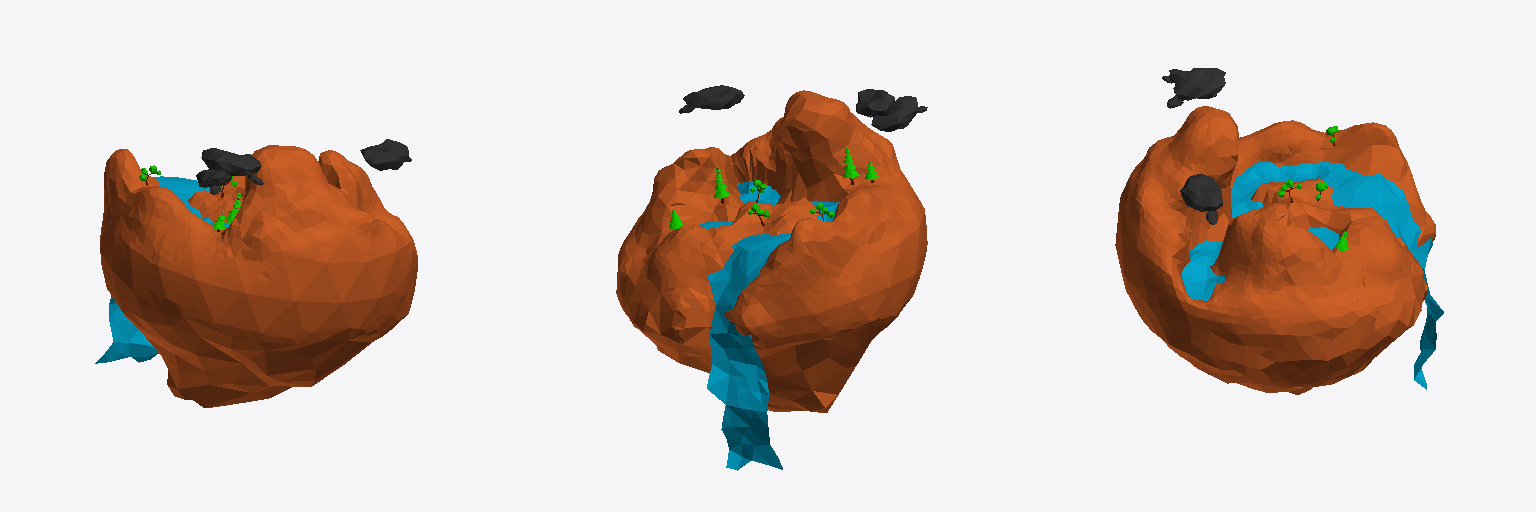
The model's file is island_basic_rain.obj.
The picture shows the model from 3 angles: view 1: azimuth 30°, elevation 25°; view 2: azimuth 150°, elevation 25°; view 3: azimuth 270°, elevation 25°; orthographic projection.
Parts seen in each view (by area): view 1: Icosphere_Icosphere.001, Plane, Icosphere.004_Icosphere.005, Icosphere.005_Icosphere.006, Icosphere.002, Icosphere.001_Icosphere, Icosphere.003; view 2: Icosphere_Icosphere.001, Plane, Icosphere.004_Icosphere.005, Icosphere.005_Icosphere.006, Icosphere.001_Icosphere, Icosphere.003, Icosphere.002; view 3: Icosphere_Icosphere.001, Plane, Icosphere.004_Icosphere.005, Icosphere.005_Icosphere.006, Icosphere.002, Icosphere.001_Icosphere.
Part boxes in pixels (x1,y1,x2,y2): Icosphere_Icosphere.001: (100, 158, 417, 407); Plane: (95, 176, 228, 363); Icosphere.004_Icosphere.005: (252, 145, 323, 184); Icosphere.005_Icosphere.006: (106, 149, 355, 212); Icosphere.002: (201, 148, 263, 184); Icosphere.001_Icosphere: (360, 139, 411, 170); Icosphere.003: (196, 169, 231, 194); Icosphere_Icosphere.001: (616, 113, 927, 412); Plane: (698, 181, 839, 470); Icosphere.004_Icosphere.005: (779, 90, 852, 146); Icosphere.005_Icosphere.006: (661, 147, 877, 241); Icosphere.001_Icosphere: (679, 85, 744, 113); Icosphere.003: (871, 96, 927, 131); Icosphere.002: (856, 89, 894, 117); Icosphere_Icosphere.001: (1115, 120, 1435, 394); Plane: (1182, 161, 1443, 389); Icosphere.004_Icosphere.005: (1172, 106, 1238, 174); Icosphere.005_Icosphere.006: (1236, 120, 1390, 242); Icosphere.002: (1167, 68, 1225, 108); Icosphere.001_Icosphere: (1180, 174, 1222, 224).
Bounding box in the file's own units: 2189 × 2331 × 2316.